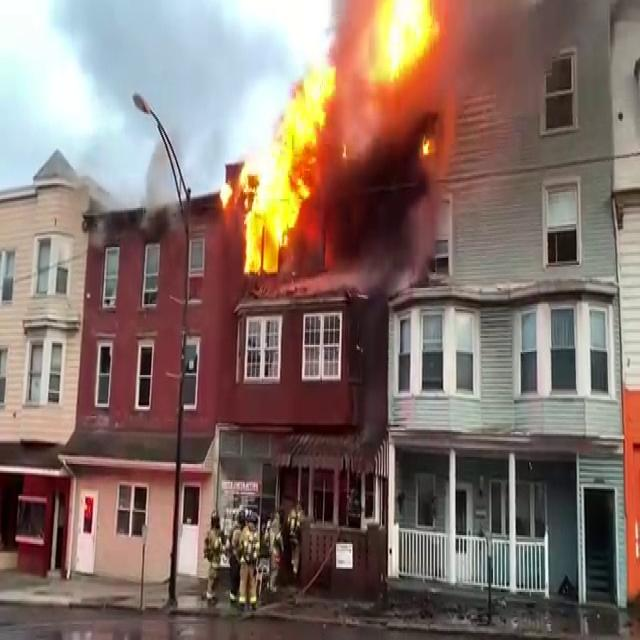Fire: (218, 52, 338, 276), (363, 0, 452, 92)
